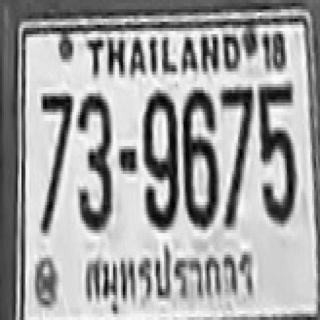N03: (76, 90, 111, 227)
N05: (258, 81, 294, 221)
N06: (182, 87, 216, 224)
N07: (219, 84, 253, 224), (39, 92, 72, 231), (39, 90, 72, 196)
N09: (142, 89, 178, 228)
P57: (78, 241, 257, 316)
